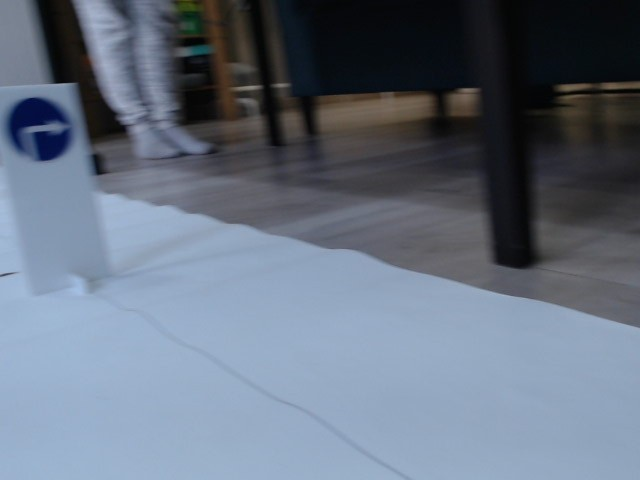Right: (8, 98, 72, 164)
